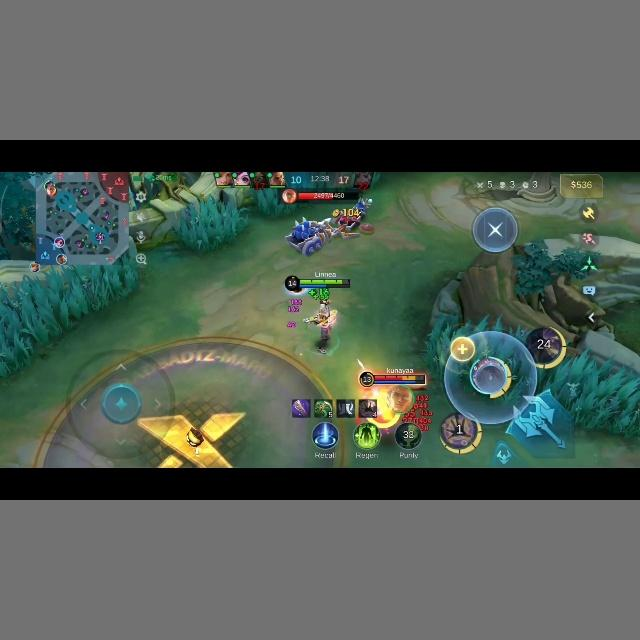hp_enemy: (358, 370, 430, 388), (296, 189, 361, 199), (354, 183, 372, 192)
hp_self: (284, 276, 350, 290)
minion_ally: (286, 216, 334, 256)
minion_enemy: (330, 208, 362, 235)
turret_enemy: (519, 175, 562, 204)
